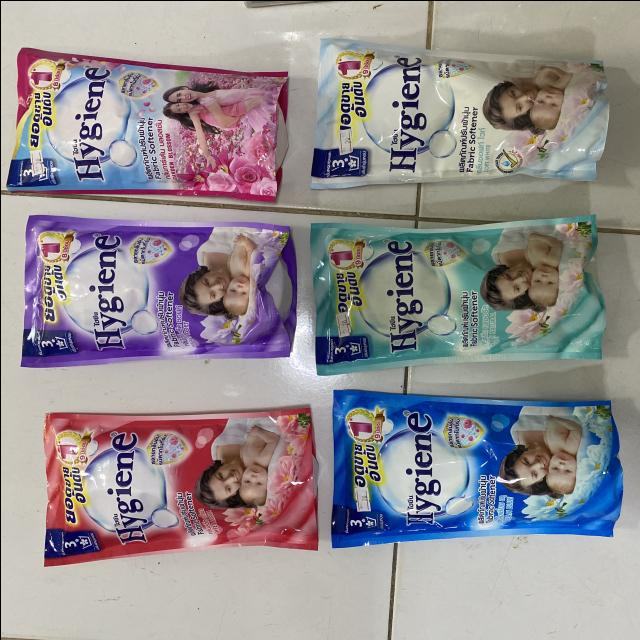plastik: (309, 214, 605, 375), (331, 390, 621, 547), (309, 38, 608, 187), (5, 47, 288, 201), (43, 406, 317, 564), (20, 214, 295, 366)
